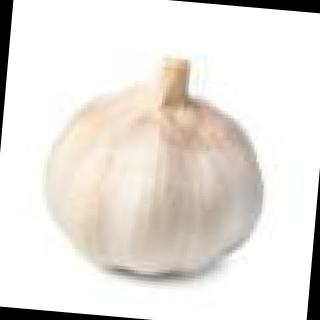Bawang Putih: (33, 52, 288, 286)
